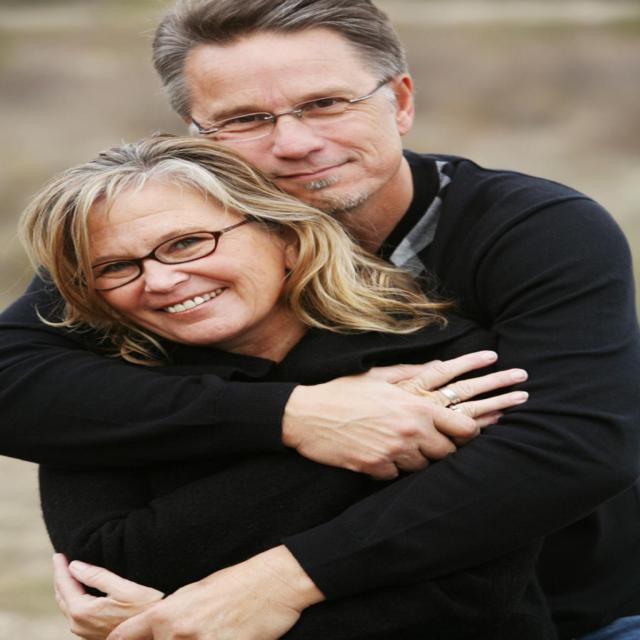Face: (47, 166, 294, 351), (197, 25, 419, 219)
